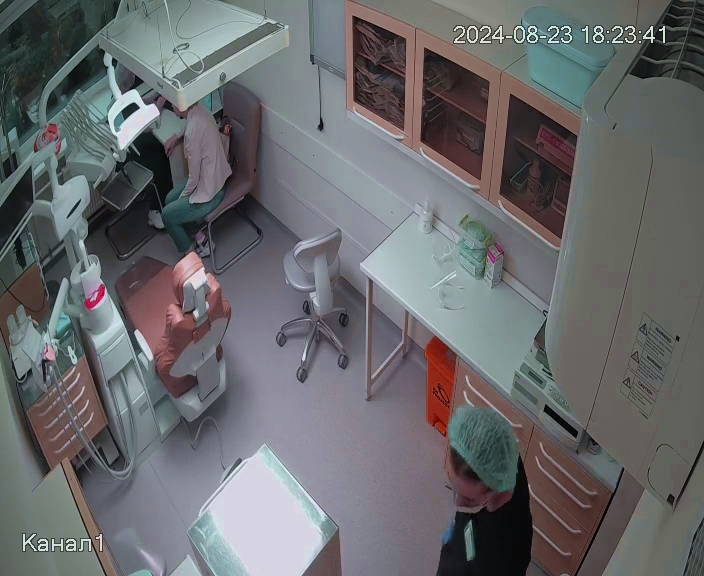Empty: (110, 248, 232, 418)
